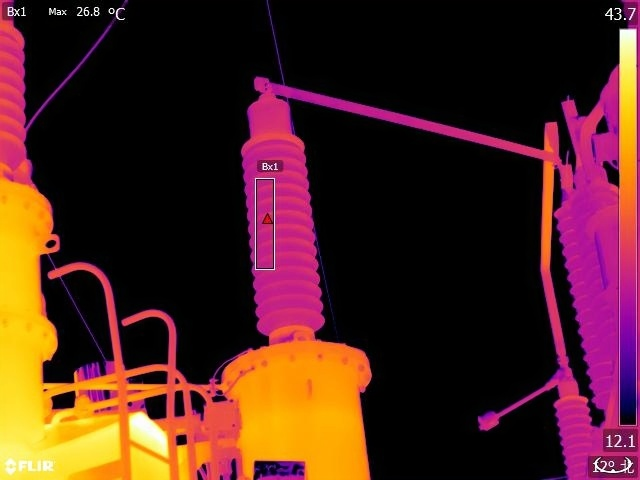post insulator: (555, 184, 622, 401), (550, 390, 599, 480)
switch: (467, 367, 566, 434)
tube: (236, 91, 336, 340), (1, 19, 45, 180)
